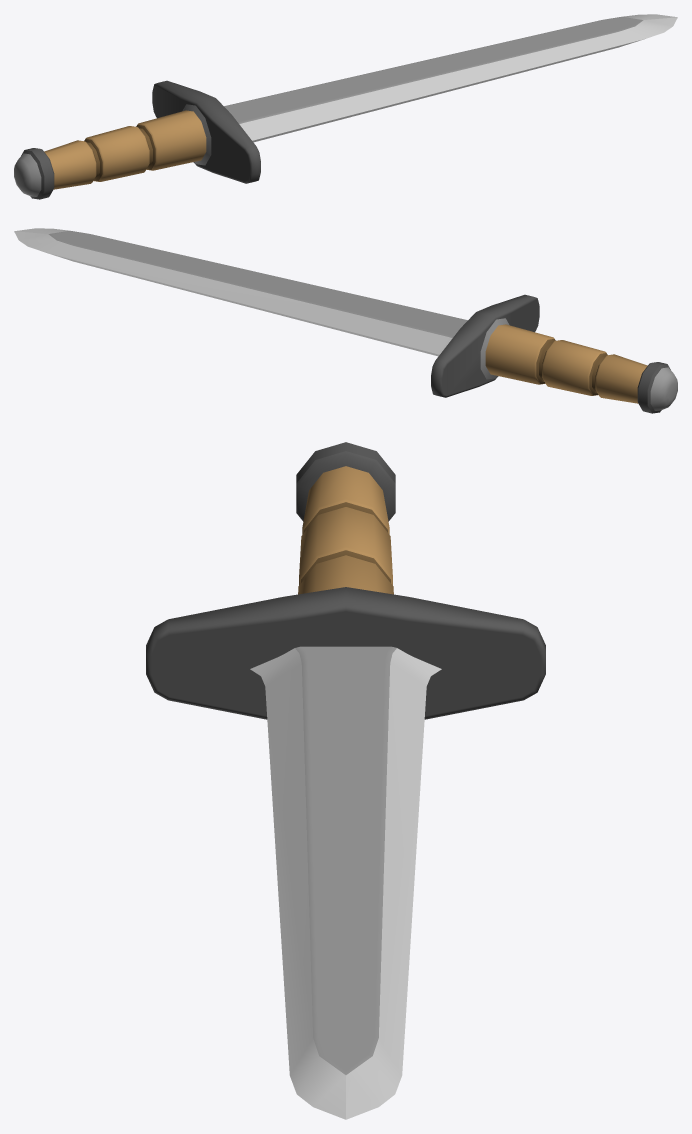
File: Entity_Sword.FBX
3 renders of one model, top to bottom at view 1: azimuth 30°, elevation 25°; view 2: azimuth 150°, elevation 25°; view 3: azimuth 270°, elevation 25°, orthographic. The views are drawn at different scales.
Parts seen in each view (by area): view 1: Sword; view 2: Sword; view 3: Sword.
Part boxes in pixels (x1,y1,x2,y2): Sword: [14, 14, 677, 199]; Sword: [14, 228, 677, 413]; Sword: [146, 442, 545, 1119].
Size of the model in its own units: 291 by 26.91 by 76.48.
